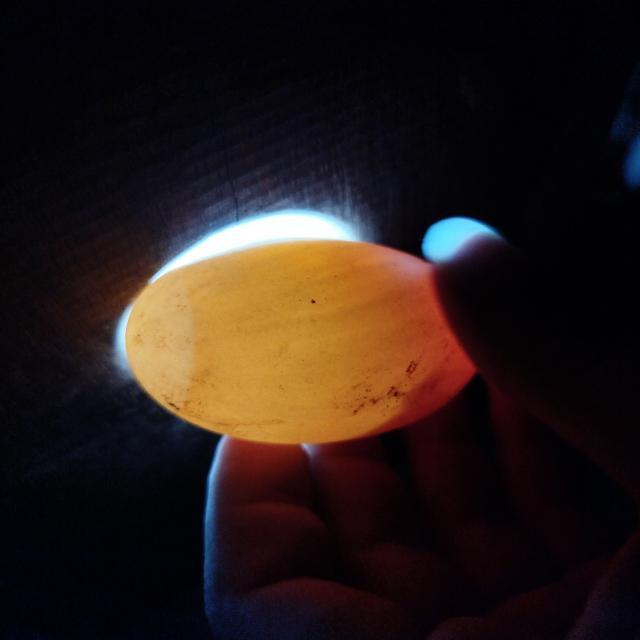Camara de Ar: (125, 272, 194, 410)
Gema Quebrada: (341, 242, 479, 439)
